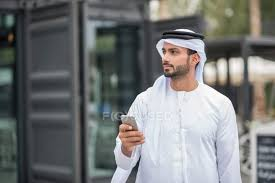middle_eastern_male: (159, 42, 209, 91)
